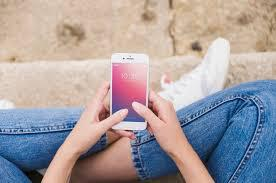Hand: (63, 78, 126, 148), (137, 86, 179, 151)
Smartphone: (107, 47, 151, 132)
